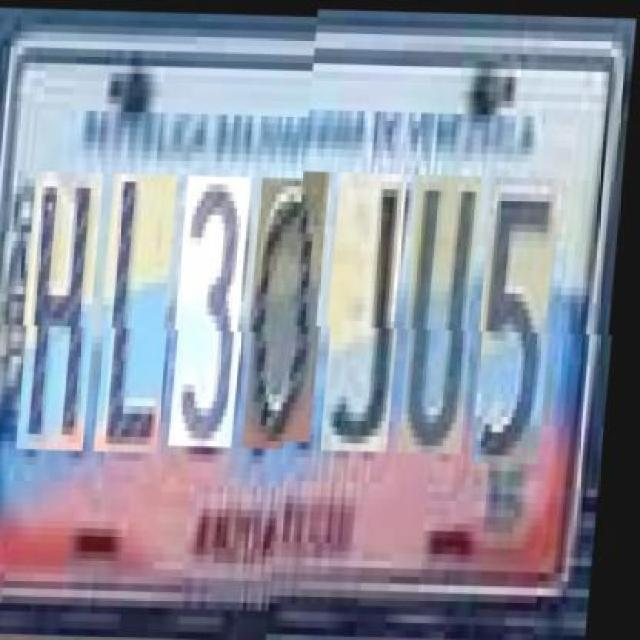3: (176, 174, 258, 446)
5: (480, 181, 566, 468)
h: (24, 171, 110, 451)
j: (328, 178, 414, 458)
l: (102, 172, 185, 452)
o: (251, 176, 335, 449)
u: (404, 179, 488, 459)
